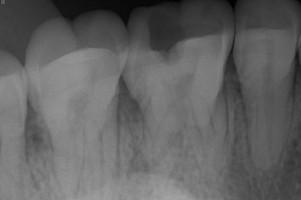Furcation Involvement: (127, 136, 151, 177)
